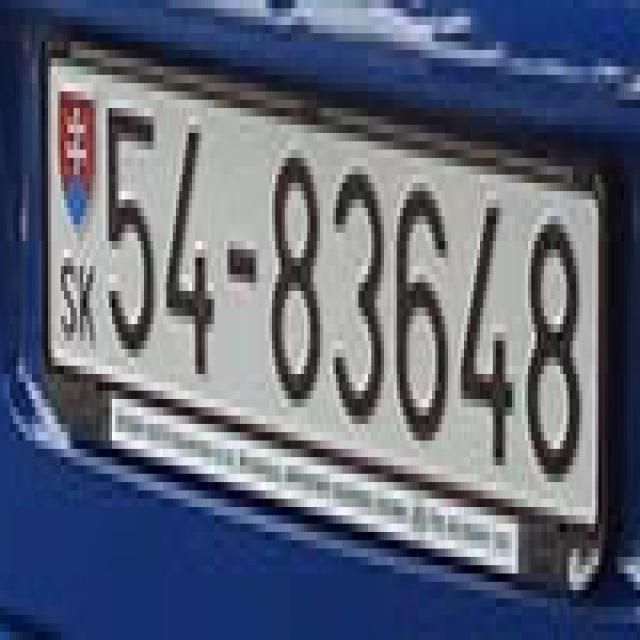Autre: (41, 43, 605, 529)
